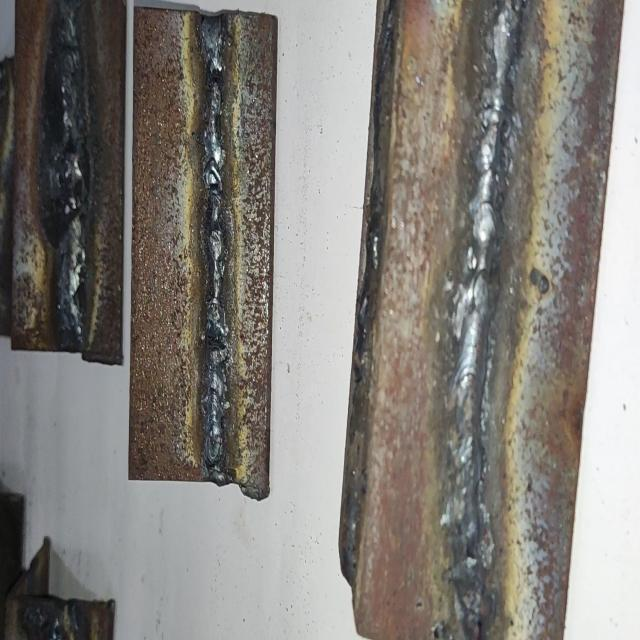Defect: (39, 133, 99, 233)
Welding Line: (442, 0, 529, 612), (52, 13, 90, 326), (202, 21, 227, 462)
Workpiece: (368, 0, 626, 634), (130, 0, 278, 479), (12, 0, 124, 349)
